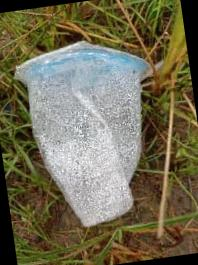Plastik: (15, 41, 151, 225)
